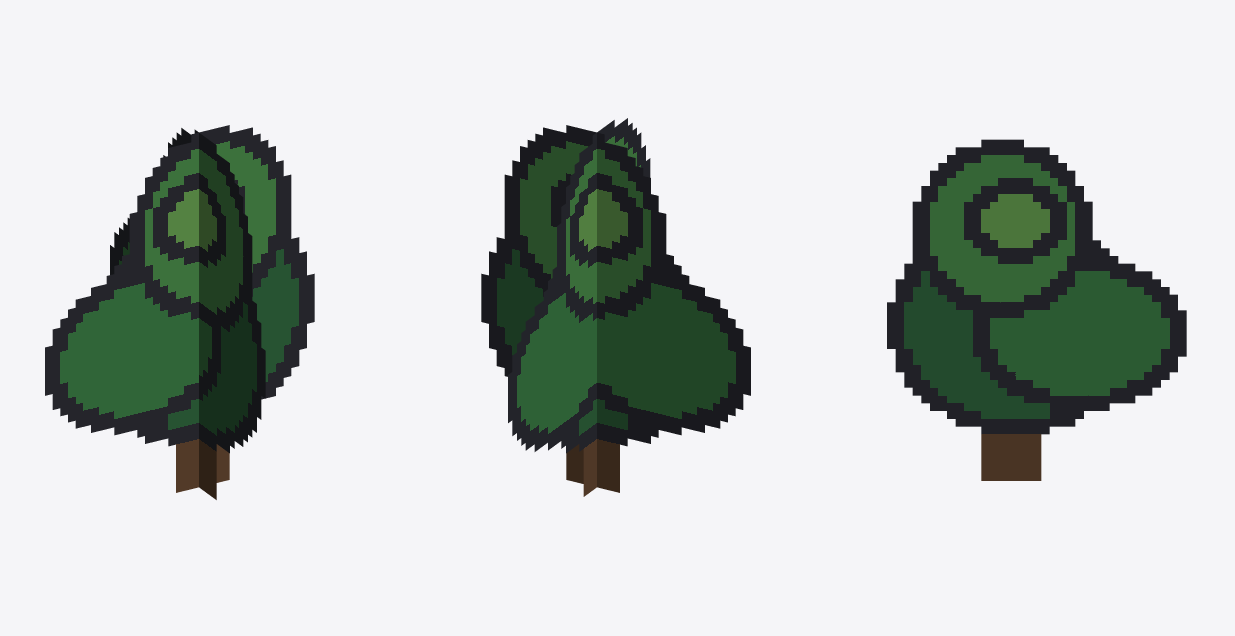
Rendered from tree_sprite.glb.
3 views of the same model, side by side, from view 1: azimuth 30°, elevation 25°; view 2: azimuth 150°, elevation 25°; view 3: azimuth 270°, elevation 25° (orthographic). The views are drawn at different scales.
Visible parts, largest first — view 1: tree_sprite; view 2: tree_sprite; view 3: tree_sprite.
Boxes of the visible parts, x1,y1,x2,y2 form: tree_sprite: (45, 125, 314, 499); tree_sprite: (481, 118, 750, 496); tree_sprite: (887, 139, 1186, 480).
Bounding box in the file's own units: 3 × 3.5 × 3.
Materials: 1 (1 with a texture image).
